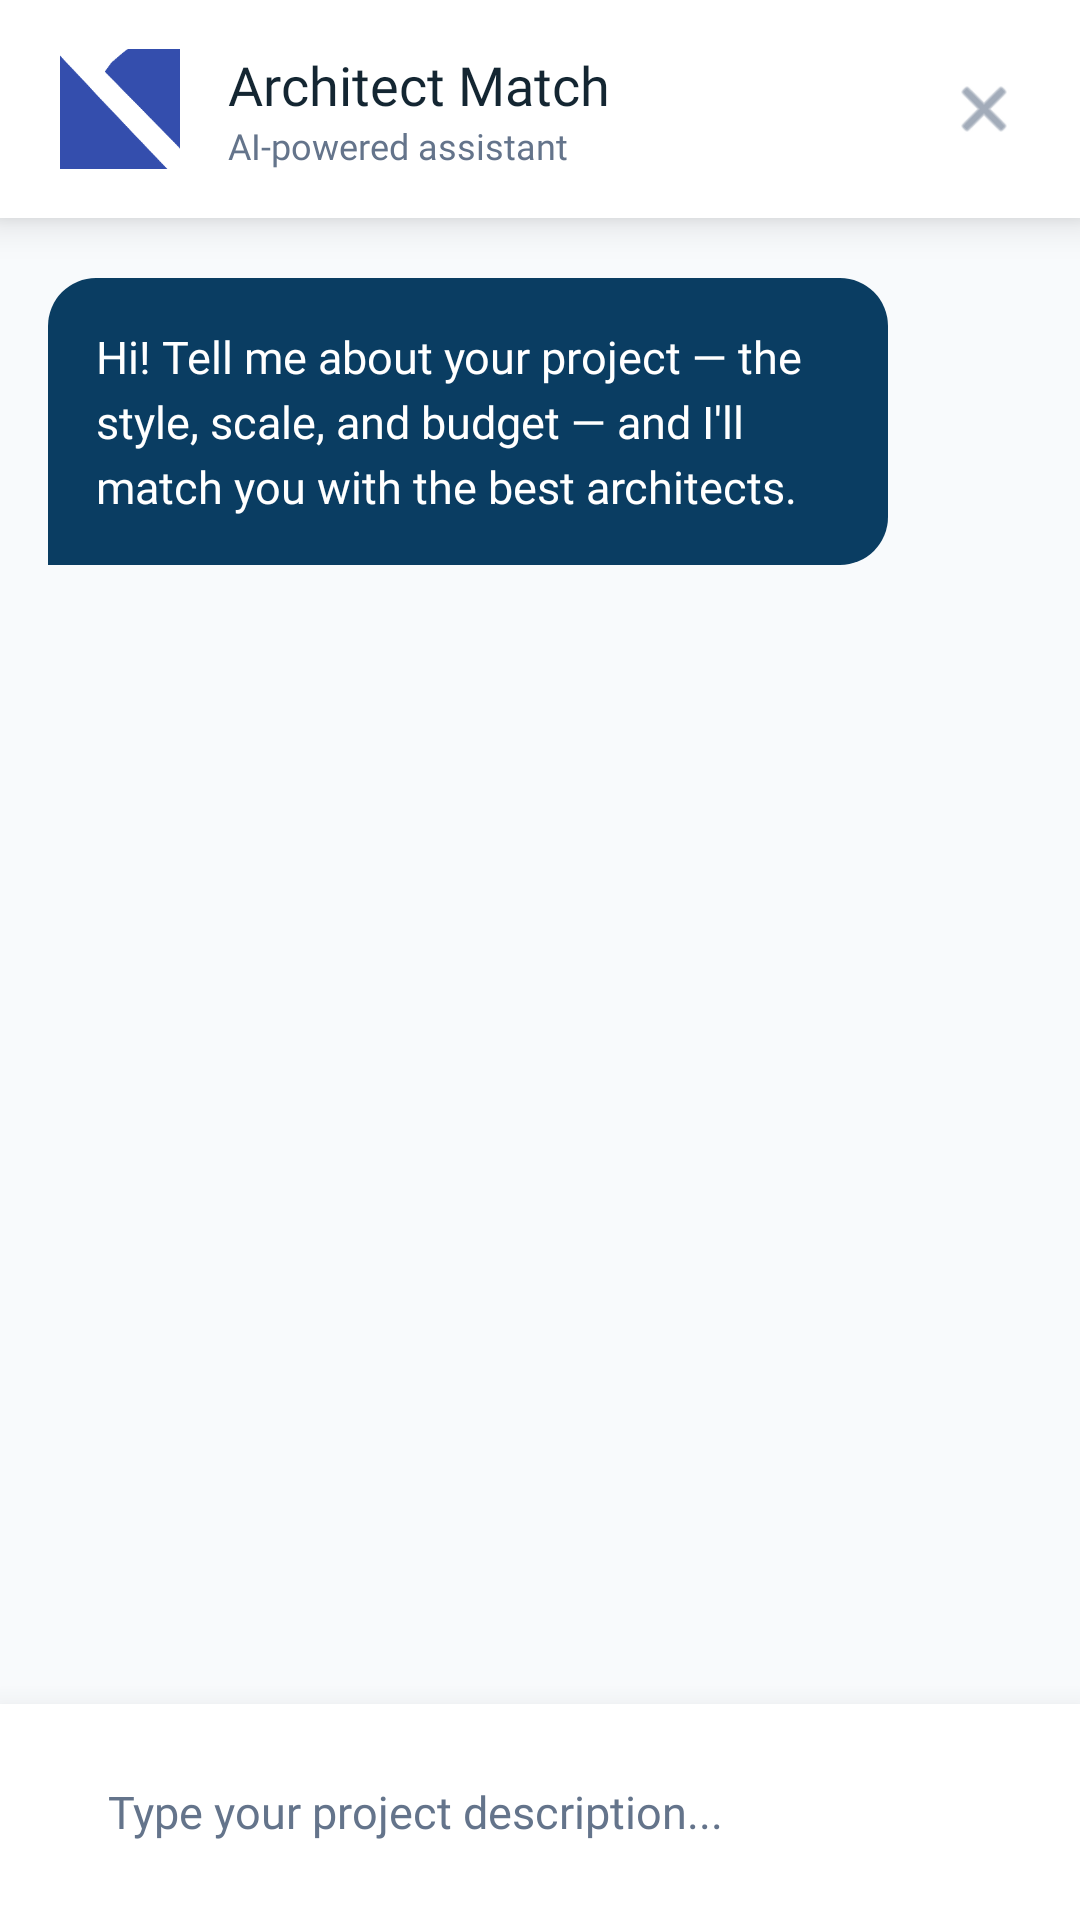

Icons on this 1080x1920 Android screen, each with the point to tap as (x,y):
close clear cancel: (984,109)
